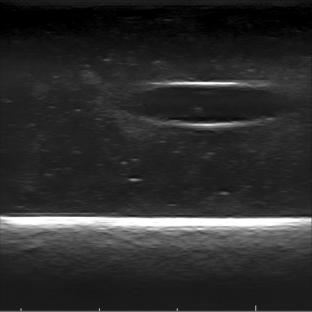vessel: (128, 80, 288, 129)
